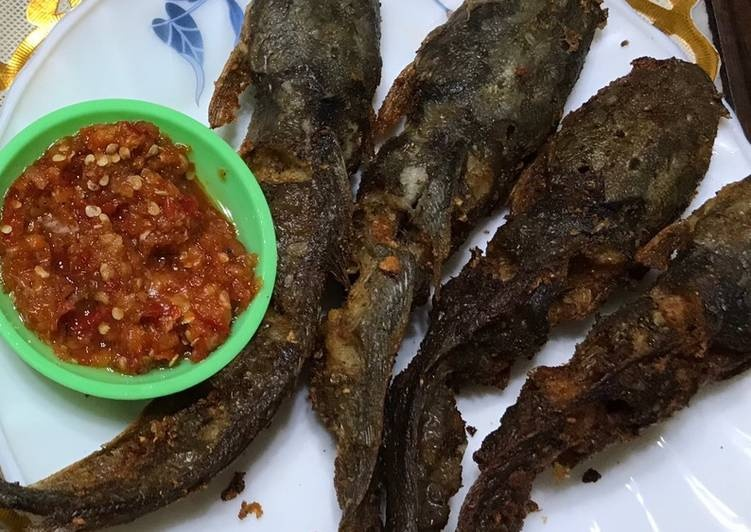pecel_lele: (491, 46, 723, 516), (314, 152, 408, 532)
